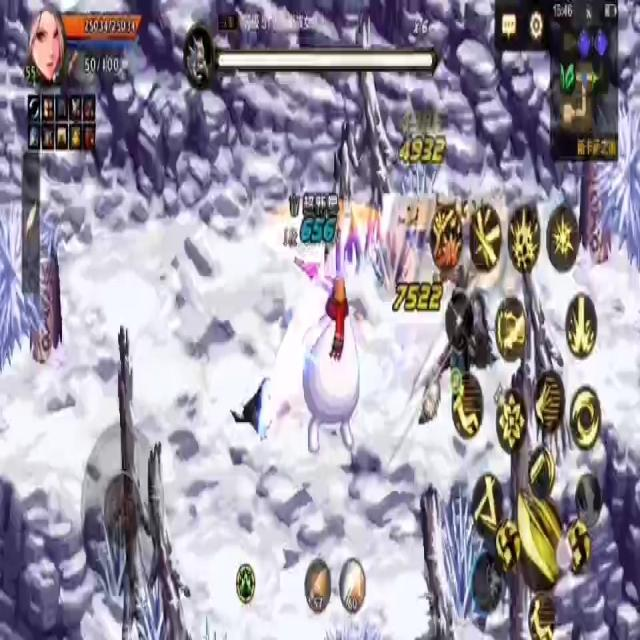player: (300, 271, 358, 454)
